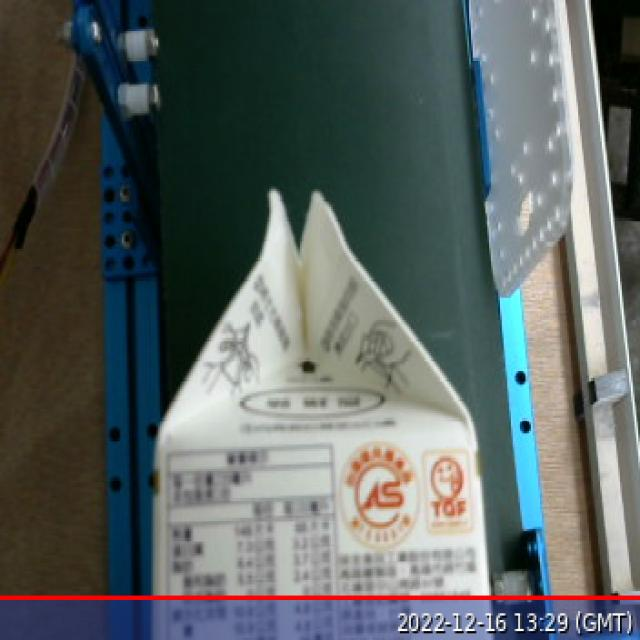non_white_jug: (147, 170, 500, 639)
